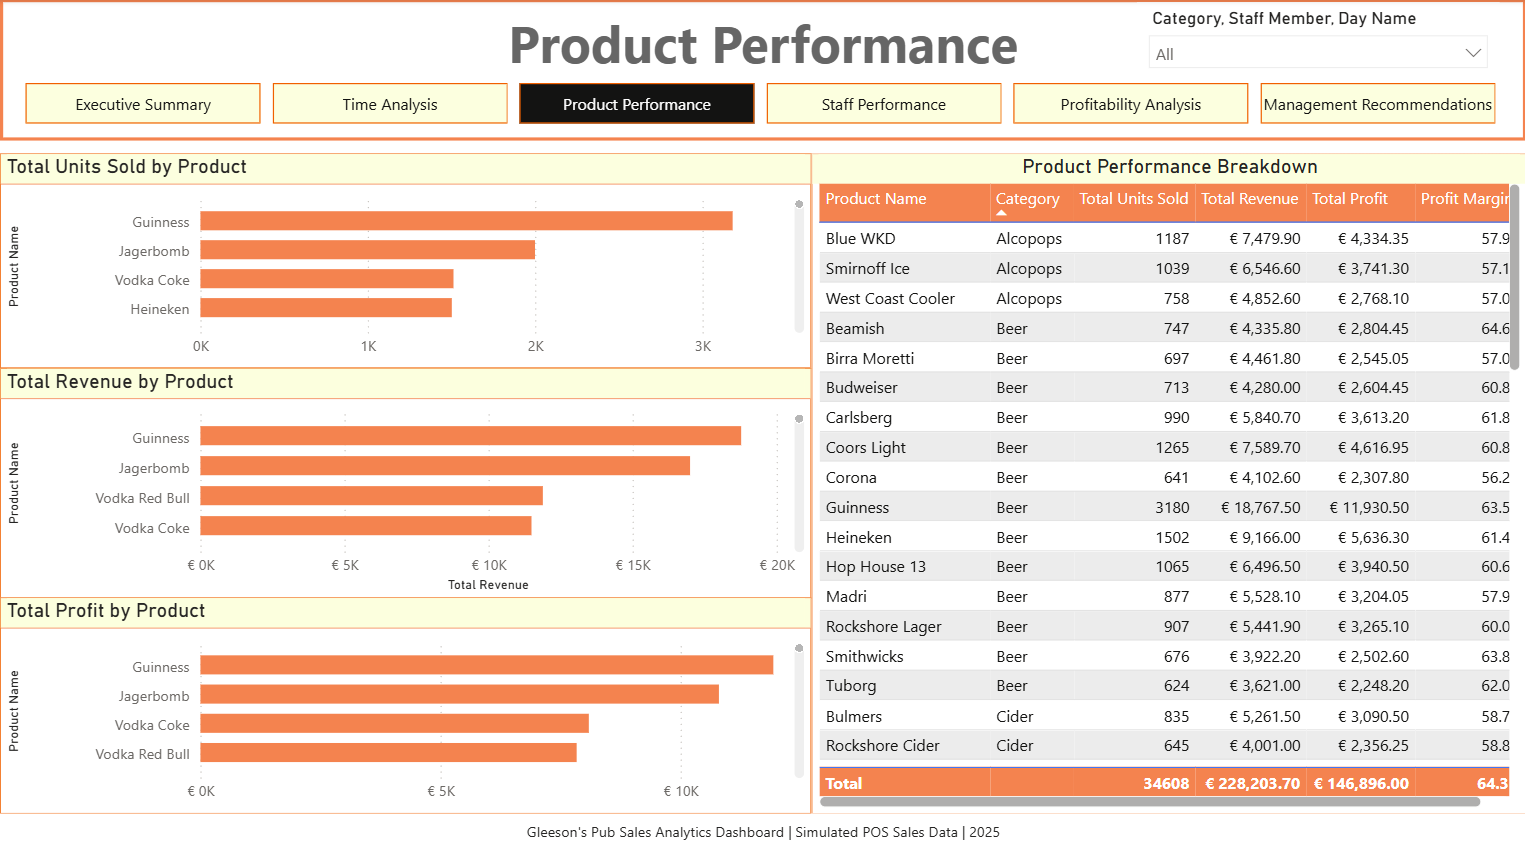

This screenshot's page, from the dashboard's own definition file:
{"tool":"powerbi","page":{"name":"Product Performance","canvas":[1280,720],"ordinal":2},"visuals":[{"type":"barChart","title":"Total Units Sold by Product ","fields":{"Category":["pub_sales_data.Product Name"],"Y":["pub_sales_data.Total Units Sold"]},"box":[0,129,680,180],"z":0},{"type":"barChart","title":"Total Revenue by Product ","fields":{"Category":["pub_sales_data.Product Name"],"Y":["pub_sales_data.Total Revenue"]},"box":[0,309,680,193],"z":1000},{"type":"barChart","title":"Total Profit by Product","fields":{"Category":["pub_sales_data.Product Name"],"Y":["pub_sales_data.Total Profit"]},"box":[0,502,680,181],"z":2000},{"type":"tableEx","title":"Product Performance Breakdown","fields":{"Values":["pub_sales_data.Product Name","pub_sales_data.Category","pub_sales_data.Total Units Sold","pub_sales_data.Total Revenue","pub_sales_data.Total Profit","pub_sales_data.Profit Margin %"]},"box":[680,129,600,554],"z":3000},{"type":"textbox","box":[0,0,1280,118.6],"z":4000},{"type":"slicer","fields":{"Values":["pub_sales_data.Category","pub_sales_data.Staff Member","pub_sales_data.Day Name"]},"box":[952.9,2.9,304.3,67.1],"z":5000},{"type":"textbox","box":[0,682.9,1280,37.1],"z":6000},{"type":"pageNavigator","box":[21.4,70,1235.7,34.3],"z":7000}]}

Visuals, with their boxes in screenshot pixels (x1, y1, x2, y2), scaled from the page's 1280x720 canvas onto the 1525x856 screenshot:
"Total Units Sold by Product " barChart: (x1=0, y1=153, x2=810, y2=367)
"Total Revenue by Product " barChart: (x1=0, y1=367, x2=810, y2=597)
"Total Profit by Product" barChart: (x1=0, y1=597, x2=810, y2=812)
"Product Performance Breakdown" tableEx: (x1=810, y1=153, x2=1524, y2=812)
textbox: (x1=0, y1=0, x2=1524, y2=141)
slicer - pub_sales_data.Category x pub_sales_data.Staff Member: (x1=1135, y1=3, x2=1498, y2=83)
textbox: (x1=0, y1=812, x2=1524, y2=855)
pageNavigator: (x1=25, y1=83, x2=1498, y2=124)
